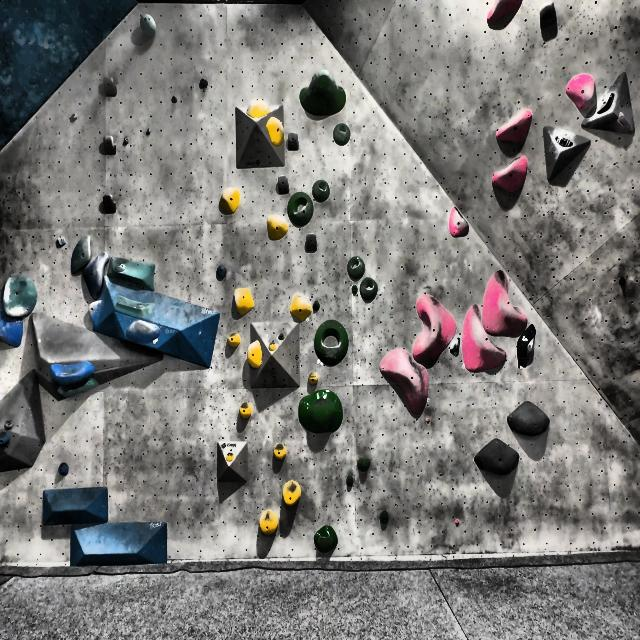Hold: (378, 348, 430, 418), (410, 288, 457, 362), (462, 304, 505, 373), (484, 272, 527, 334), (298, 70, 348, 120), (298, 388, 344, 434), (475, 438, 521, 482), (2, 269, 40, 318), (312, 318, 350, 366), (504, 399, 553, 436), (488, 154, 528, 196), (492, 107, 534, 147), (83, 252, 115, 303), (105, 258, 156, 288), (109, 294, 158, 319), (0, 299, 25, 347), (564, 73, 595, 111), (121, 319, 166, 345), (488, 0, 526, 27), (514, 324, 535, 370), (288, 192, 316, 226), (69, 236, 97, 269), (313, 523, 340, 556), (242, 94, 274, 119), (448, 205, 470, 239), (264, 115, 286, 148), (595, 89, 619, 119), (233, 285, 255, 317), (266, 212, 288, 242), (279, 480, 304, 506), (219, 188, 243, 215), (137, 13, 161, 40), (292, 291, 312, 323), (258, 508, 279, 538), (331, 121, 354, 148), (540, 0, 560, 31), (310, 175, 332, 202), (100, 75, 122, 102), (359, 278, 382, 302), (552, 128, 574, 152), (247, 339, 264, 369), (348, 255, 366, 279), (86, 298, 104, 322), (100, 133, 117, 158), (100, 192, 118, 215), (274, 438, 290, 462), (238, 400, 253, 422), (354, 455, 371, 474), (56, 461, 71, 479), (0, 428, 11, 452), (226, 333, 241, 349), (216, 262, 228, 281), (306, 370, 318, 387), (378, 509, 390, 526), (198, 73, 210, 90), (224, 450, 238, 464), (447, 338, 459, 354), (54, 234, 66, 250), (345, 474, 356, 488), (170, 91, 180, 105)
